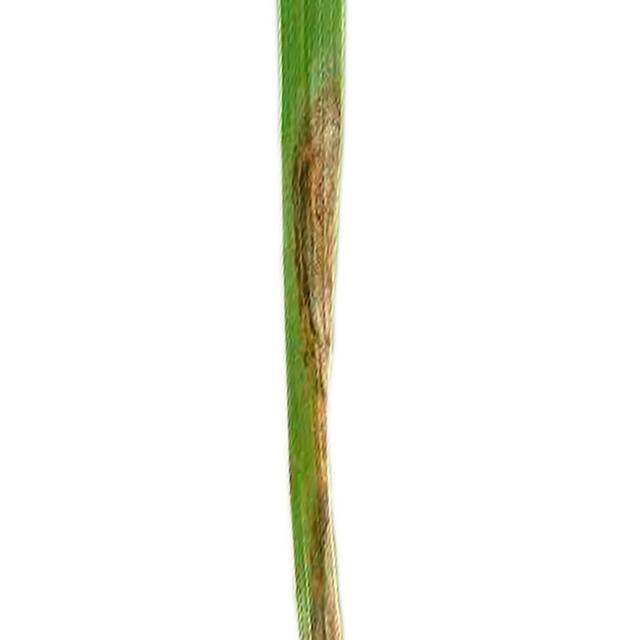Leaf scald: (223, 0, 500, 640)
